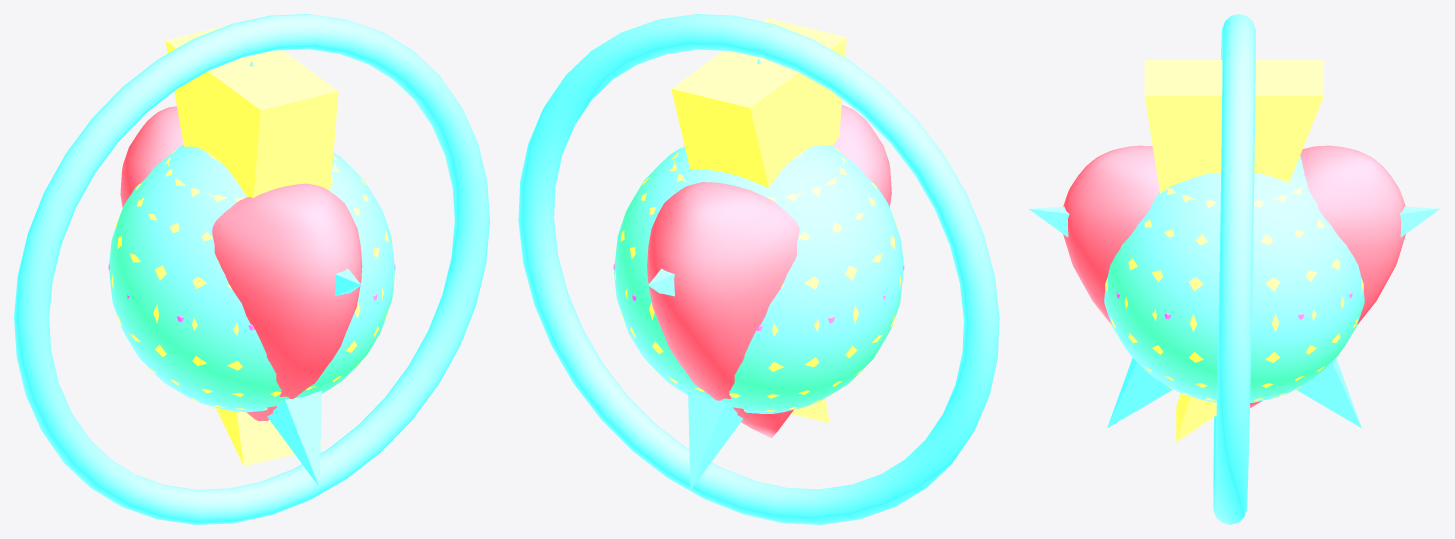
Rendered from PowerUps.glb.
3 renders of one model, left to right at view 1: azimuth 30°, elevation 25°; view 2: azimuth 150°, elevation 25°; view 3: azimuth 270°, elevation 25°, orthographic. The views are drawn at different scales.
Visible parts, largest first — view 1: Aro, Power, Heart, ThunderVolt, Star, Coin; view 2: Aro, Power, Heart, ThunderVolt, Star, Coin; view 3: Power, Heart, Aro, ThunderVolt, Star, Coin.
Part boxes in pixels (bbox=[...]): Aro: bbox=[14, 14, 489, 524]; Power: bbox=[109, 144, 394, 412]; Heart: bbox=[120, 106, 362, 420]; ThunderVolt: bbox=[165, 25, 338, 466]; Star: bbox=[142, 61, 361, 487]; Coin: bbox=[111, 149, 394, 409]; Aro: bbox=[518, 14, 999, 524]; Power: bbox=[614, 145, 903, 413]; Heart: bbox=[647, 105, 891, 438]; ThunderVolt: bbox=[671, 18, 846, 423]; Star: bbox=[648, 58, 869, 490]; Coin: bbox=[614, 145, 901, 411]; Power: bbox=[1104, 156, 1364, 402]; Heart: bbox=[1063, 145, 1405, 408]; Aro: bbox=[1213, 14, 1255, 524]; ThunderVolt: bbox=[1144, 60, 1323, 442]; Star: bbox=[1028, 206, 1440, 427]; Coin: bbox=[1105, 172, 1363, 400].
Size of the model in its own units: 3.79 by 3.79 by 3.06.
